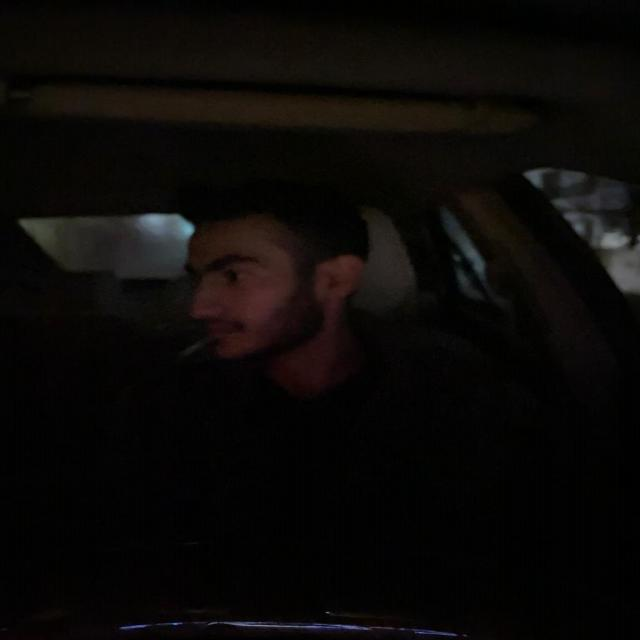LeftRight: (166, 172, 392, 375)
